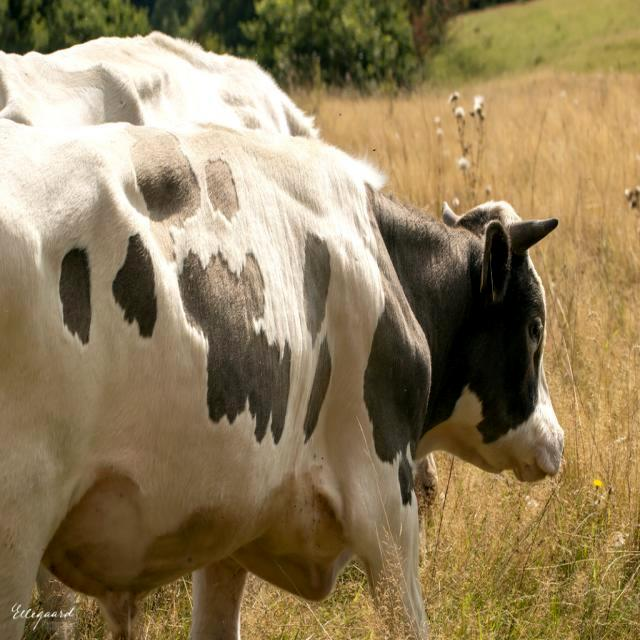COW: (0, 120, 562, 639)
